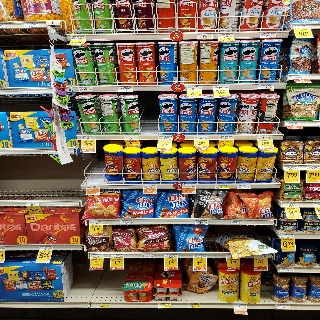All PRICE TAGS: (276, 304, 290, 310), (283, 165, 299, 170), (285, 121, 301, 126), (197, 33, 213, 38), (218, 33, 234, 38), (260, 32, 276, 37), (186, 85, 202, 90), (258, 84, 273, 89), (71, 35, 86, 40), (118, 86, 133, 91), (214, 85, 229, 90), (158, 135, 172, 140), (26, 201, 40, 206), (280, 267, 294, 272), (280, 234, 294, 239), (292, 25, 309, 29), (158, 303, 171, 308), (193, 253, 206, 258), (164, 253, 177, 258), (111, 253, 124, 258), (292, 75, 308, 79), (23, 23, 39, 27), (188, 303, 200, 308), (257, 136, 272, 140), (219, 136, 234, 140), (124, 136, 139, 140), (81, 136, 96, 140), (284, 203, 299, 207), (78, 87, 93, 91), (194, 220, 208, 224), (237, 184, 251, 188), (86, 185, 100, 189), (194, 136, 208, 140), (306, 166, 320, 170), (234, 304, 247, 308), (254, 254, 267, 258), (141, 254, 154, 258), (90, 253, 103, 257), (231, 220, 244, 224), (120, 220, 133, 224), (89, 220, 102, 224), (40, 246, 53, 250), (97, 303, 109, 307), (215, 185, 229, 188), (143, 185, 157, 188), (182, 185, 195, 188)
